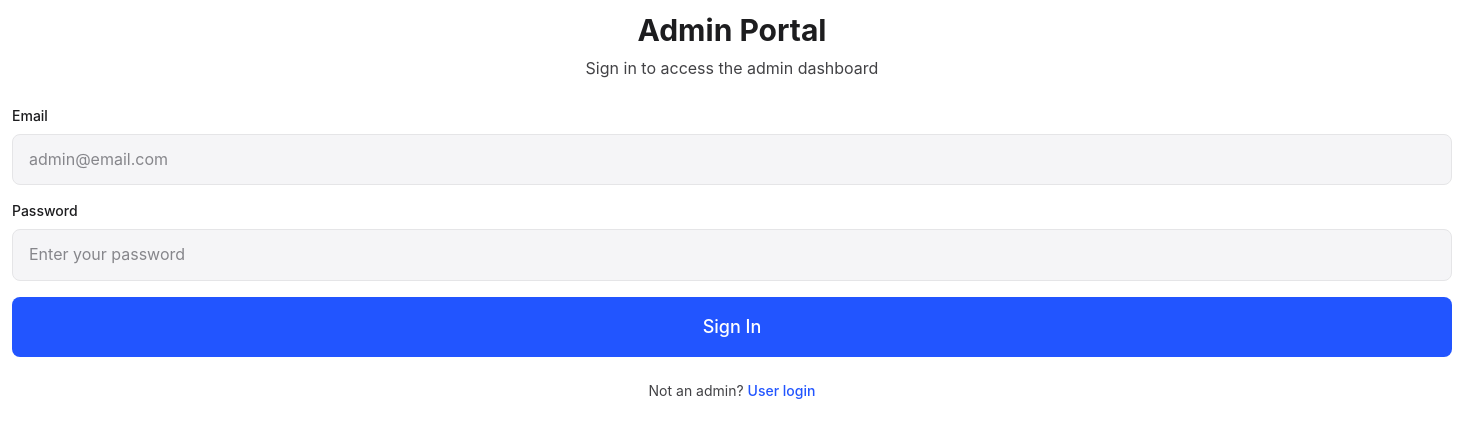
Test: AdminLogin Form › Form Validation › should show email validation error for invalid email format
Type "invalid-email" into the field with placeholder "admin@email.com". click: (732, 159)
box: [12,134,1452,185]
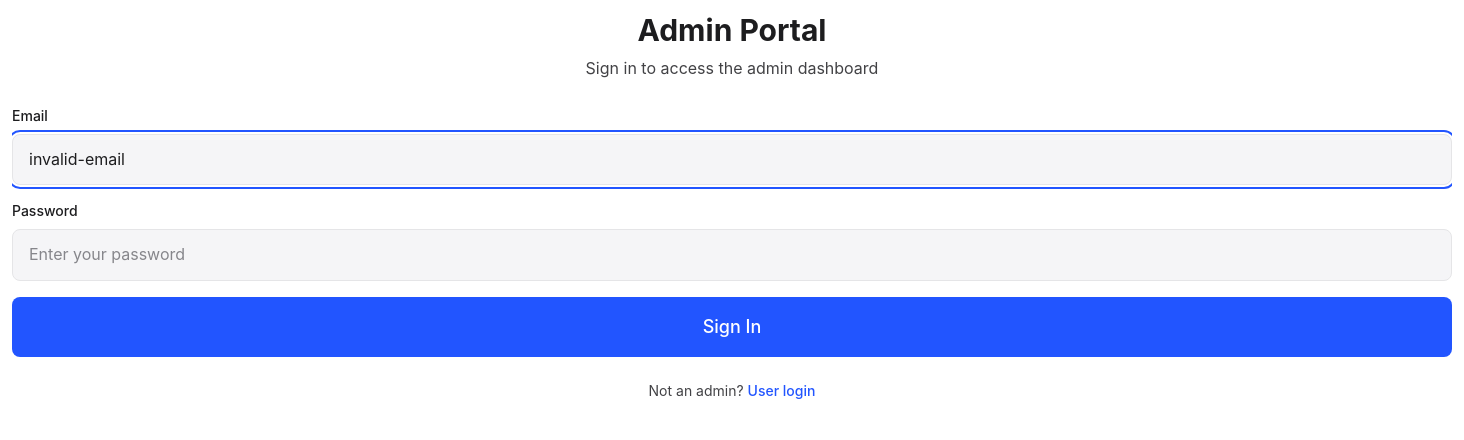
Click the button "Sign In". click: (732, 327)
box: [12,297,1452,357]
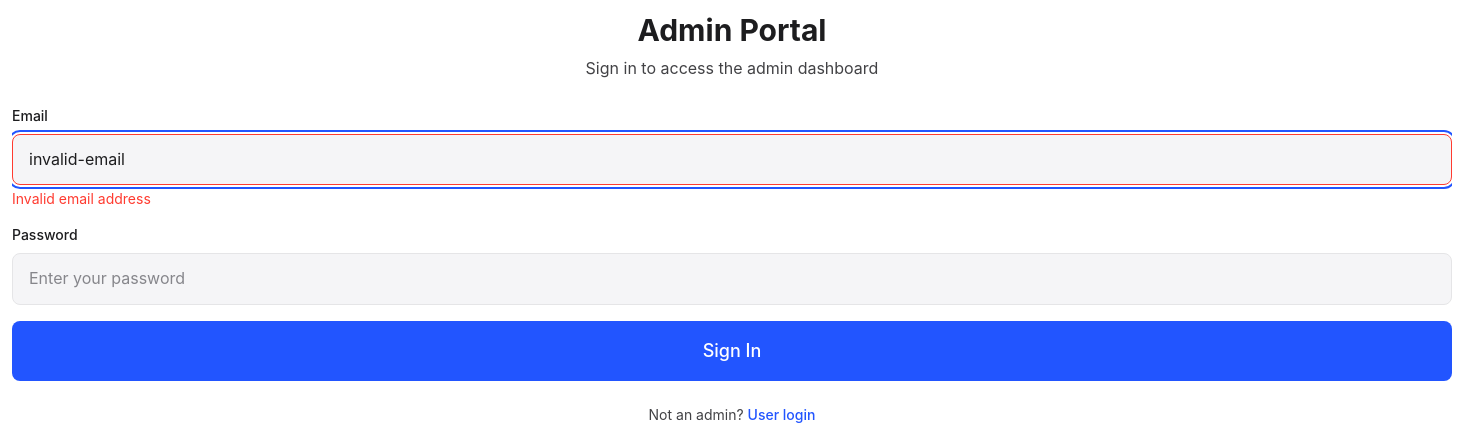
Expected: the text "Invalid email address" is shown, [12,190,151,207]
